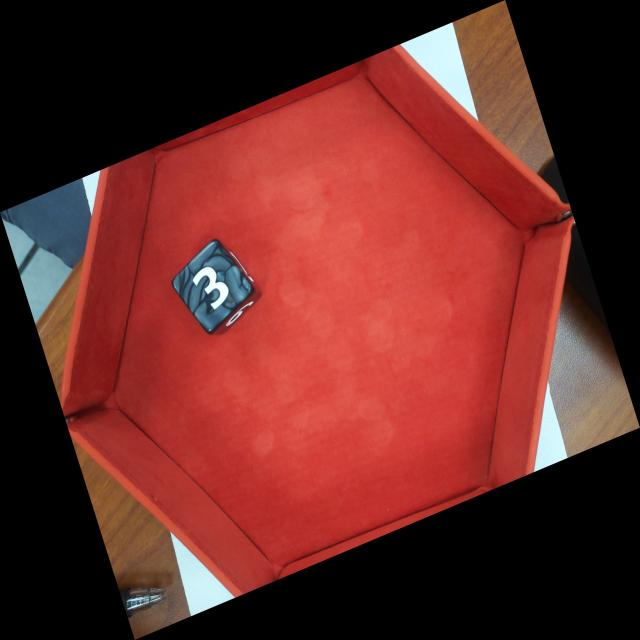dice: (175, 240, 256, 333)
